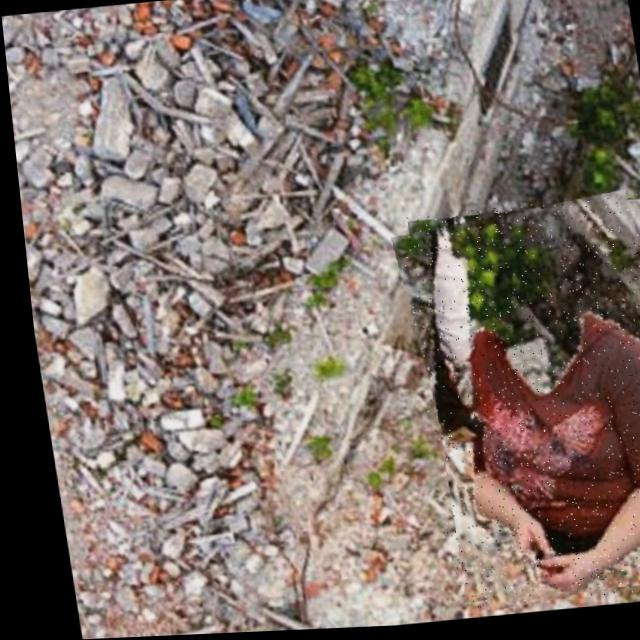Person in Rubble: (391, 198, 640, 613)
